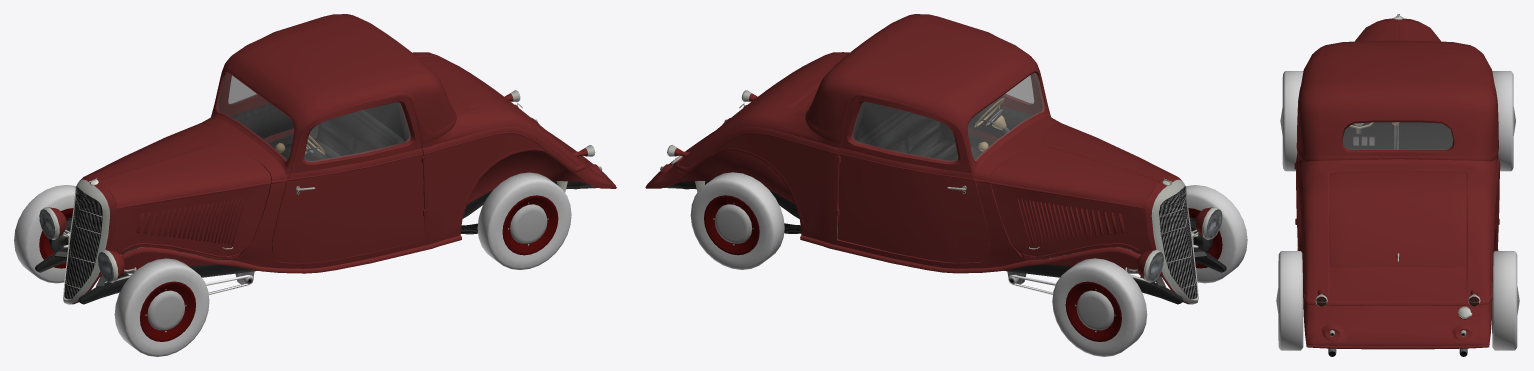
The model's file is HOTROD33_MODEL.fbx.
3 views of the same model, side by side, from view 1: azimuth 30°, elevation 25°; view 2: azimuth 150°, elevation 25°; view 3: azimuth 270°, elevation 25° (orthographic). The views are drawn at different scales.
Parts seen in each view (by area): view 1: body, door_left, hood, wheel_01, wheel_02, grill, interior, glass, wheel_04, door_right, frame, headlights (+1 smaller); view 2: body, door_right, hood, wheel_04, wheel_03, interior, grill, glass, wheel_01, door_left, frame, headlights (+1 smaller); view 3: body, glass, interior, wheel_03, wheel_02, wheel_04, wheel_01, hood, stoplights.
Boxes of the visible parts, x1,y1,x2,y2 form: body: (97, 14, 616, 276); door_left: (272, 96, 426, 263); hood: (85, 123, 270, 259); wheel_01: (114, 258, 209, 356); wheel_02: (477, 172, 571, 269); grill: (63, 176, 116, 304); interior: (219, 102, 408, 160); glass: (217, 73, 294, 160); wheel_04: (14, 185, 75, 283); door_right: (219, 73, 318, 146); frame: (35, 180, 592, 304); headlights: (39, 207, 136, 282); body: (645, 14, 1163, 276); door_right: (836, 96, 989, 262); hood: (991, 123, 1176, 259); wheel_04: (1052, 258, 1147, 356); wheel_03: (690, 172, 784, 269); interior: (853, 97, 1042, 160); grill: (1145, 176, 1198, 304); glass: (967, 73, 1044, 160); wheel_01: (1186, 185, 1247, 283); door_left: (943, 73, 1043, 146); frame: (669, 180, 1226, 304); headlights: (1125, 207, 1222, 282); body: (1295, 20, 1500, 349); glass: (1342, 122, 1452, 149); interior: (1342, 122, 1452, 149); wheel_03: (1492, 251, 1519, 350); wheel_02: (1276, 251, 1303, 350); wheel_04: (1492, 71, 1515, 171); wheel_01: (1280, 71, 1303, 171); hood: (1355, 20, 1440, 41); stoplights: (1315, 289, 1480, 306).
Size of the model in its own units: 165 by 64.22 by 65.74.
